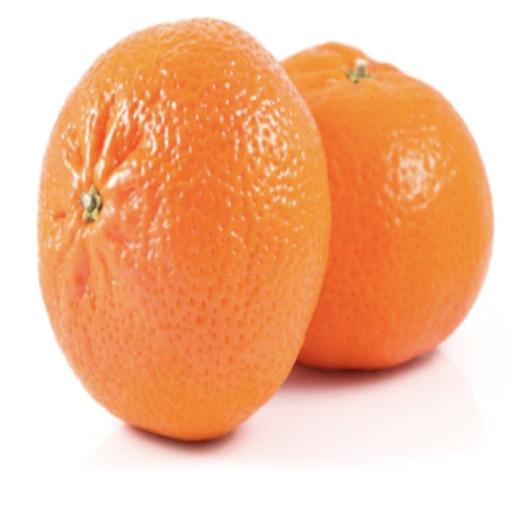orange: (39, 20, 331, 439), (283, 43, 493, 368)
